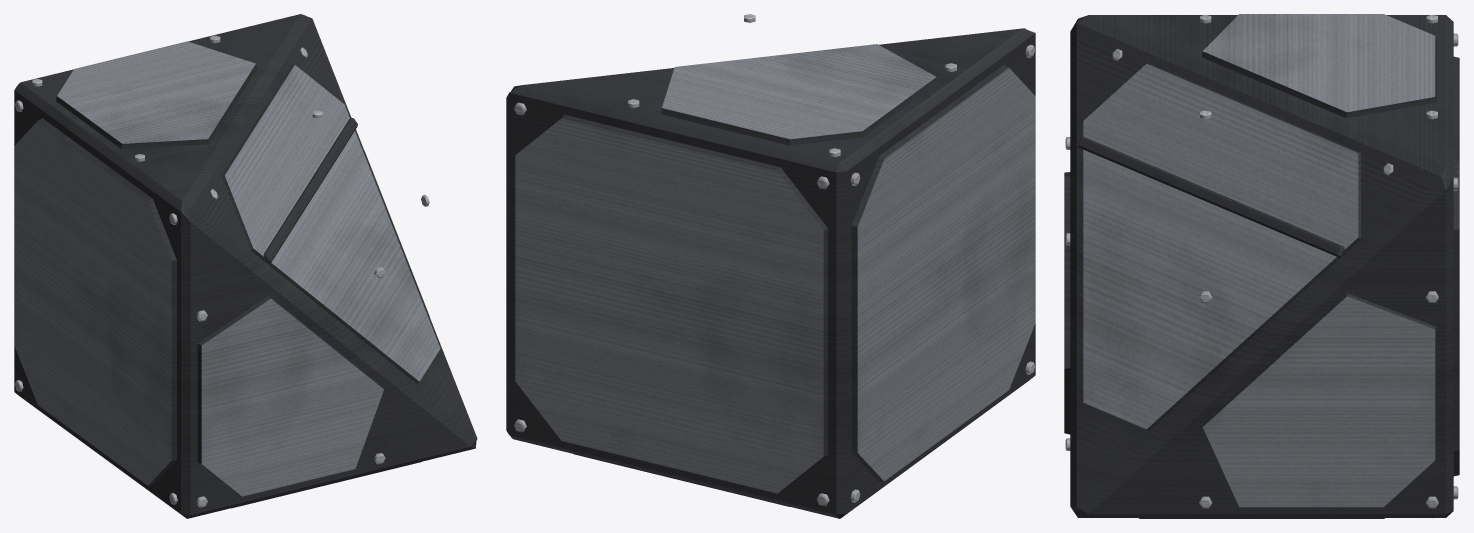
Rendered from R4B_InnerCorner.glb.
3 renders of one model, left to right at view 1: azimuth 30°, elevation 25°; view 2: azimuth 150°, elevation 25°; view 3: azimuth 270°, elevation 25°, orthographic. The views are drawn at different scales.
Parts seen in each view (by area): view 1: R4B_InnerCorner; view 2: R4B_InnerCorner; view 3: R4B_InnerCorner.
Boxes of the visible parts, x1,y1,x2,y2 form: R4B_InnerCorner: (14, 14, 477, 518); R4B_InnerCorner: (506, 14, 1035, 518); R4B_InnerCorner: (1064, 14, 1459, 518).
Size of the model in its own units: 0.52 by 0.52 by 0.52.
3 materials, 3 textured.
